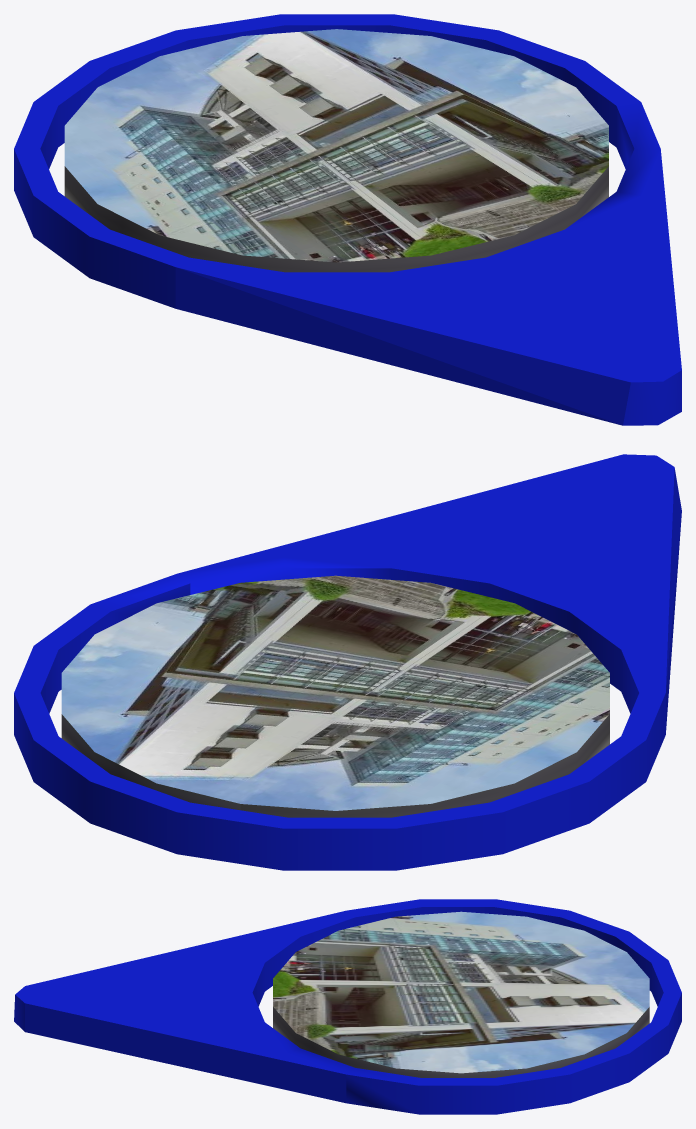
File: location.FBX
3 views of the same model, one above another, from view 1: azimuth 30°, elevation 25°; view 2: azimuth 150°, elevation 25°; view 3: azimuth 270°, elevation 25° (orthographic). The views are drawn at different scales.
Visible parts, largest first — view 1: Cylinder001, Tube001; view 2: Cylinder001, Tube001; view 3: Cylinder001, Tube001.
Part boxes in pixels (x1,y1,x2,y2): Cylinder001: (64, 29, 608, 272); Tube001: (14, 14, 681, 425); Cylinder001: (61, 575, 609, 817); Tube001: (14, 454, 681, 870); Cylinder001: (273, 911, 649, 1077); Tube001: (14, 899, 681, 1114).
Bounding box in the file's own units: 91.04 × 6.71 × 138.
